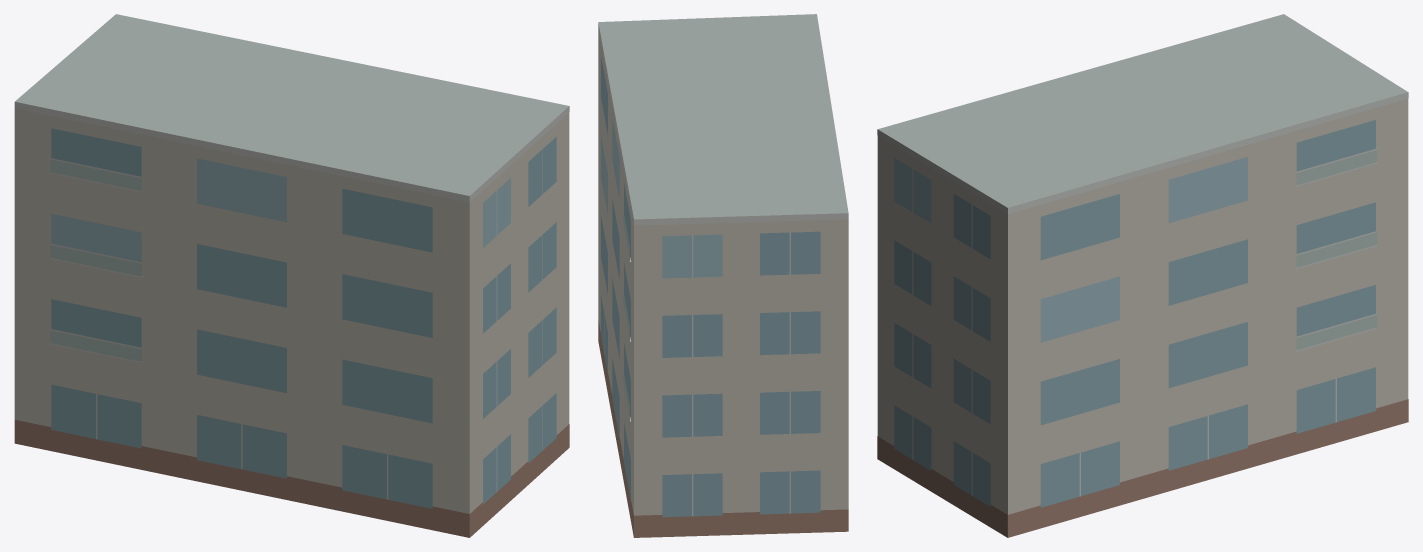
The model's file is survey-upis-32673340.glb.
3 views of the same model, side by side, from view 1: azimuth 30°, elevation 25°; view 2: azimuth 150°, elevation 25°; view 3: azimuth 270°, elevation 25° (orthographic). The views are drawn at different scales.
Parts seen in each view (by area): view 1: survey-upis-32673340.tmp; view 2: survey-upis-32673340.tmp; view 3: survey-upis-32673340.tmp.
Boxes of the visible parts, left/top/right/bottom form: survey-upis-32673340.tmp: left=14, top=14, right=569, bottom=537; survey-upis-32673340.tmp: left=598, top=14, right=848, bottom=537; survey-upis-32673340.tmp: left=877, top=14, right=1408, bottom=537.
Size of the model in its own units: 16.14 by 12.8 by 18.67.
